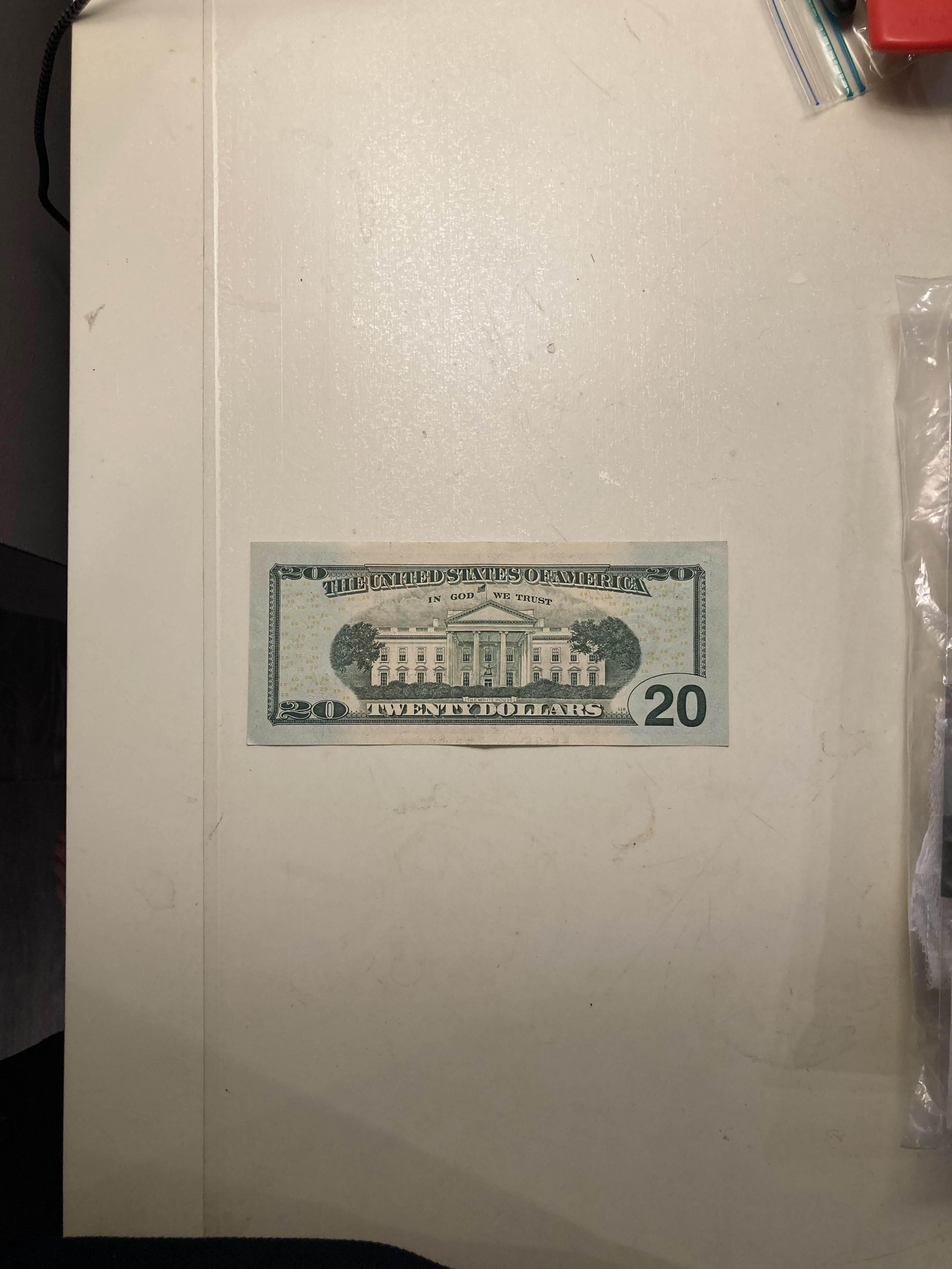twenty-back: (246, 539, 730, 748)
